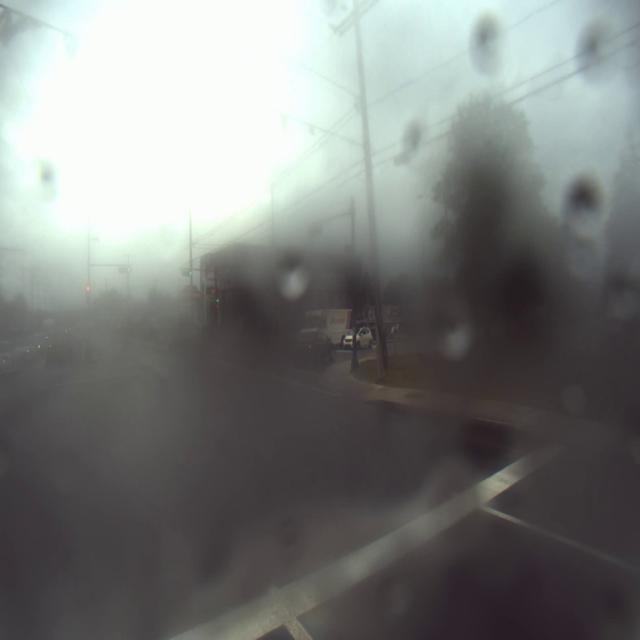car: (291, 326, 340, 372)
